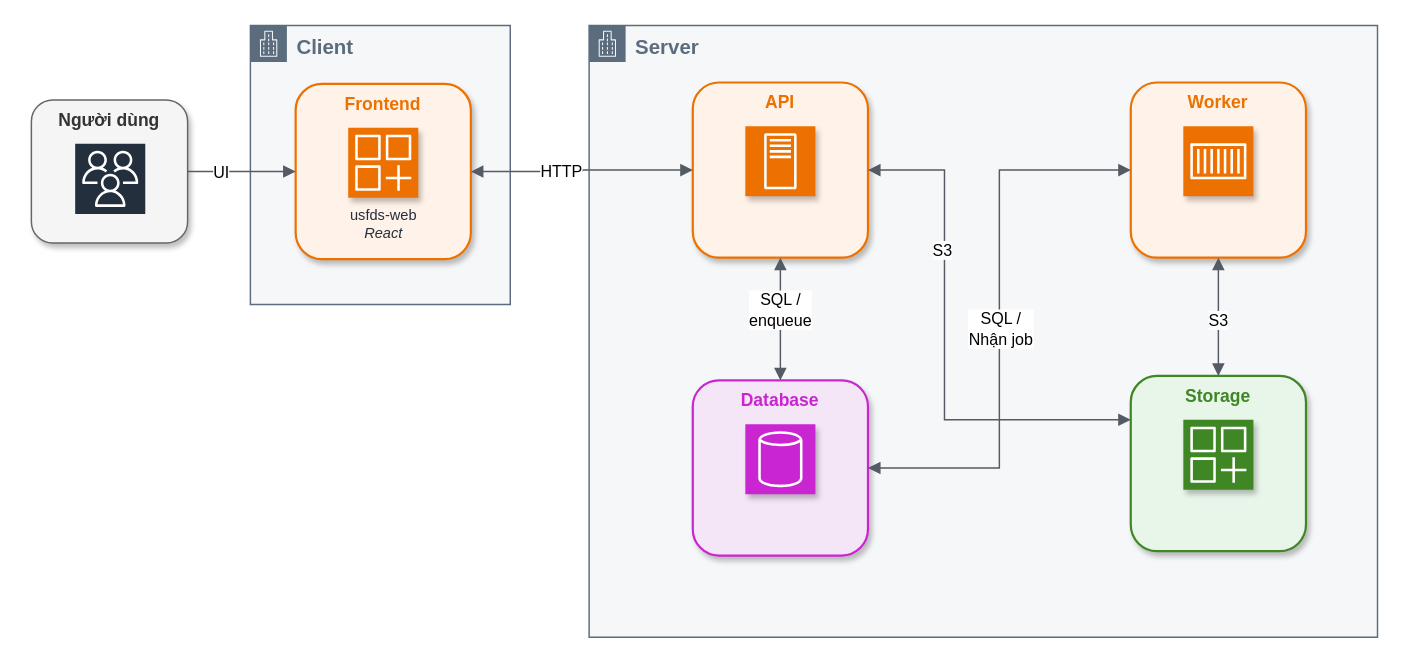
Image size: 1403x663. Some labels were removed from this diagram. The shapes that lost their labels are listed below. From the top down, each one's centre as x and y in pixels, then its label:
(x=781, y=163): usfds-server FastAPI
(x=1219, y=163): usfds-worker train, inference
(x=781, y=460): PostgreSQL OLTP, graph, queue
(x=1219, y=456): RustFS S3 object store
